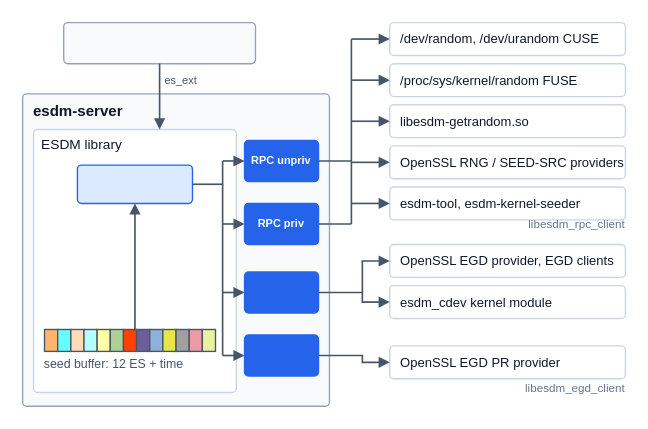
The diagram is 648 pixels wide and 429 high, and some of its shapes have lost their labels. Here are the shapes that lost their labels. From the top down, the centre of each, then its label:
At point (159, 42): "provider program (ExternalSocket ES)".
At point (134, 183): "DRNGs".
At point (281, 292): "EGD".
At point (281, 355): "EGD PR".
